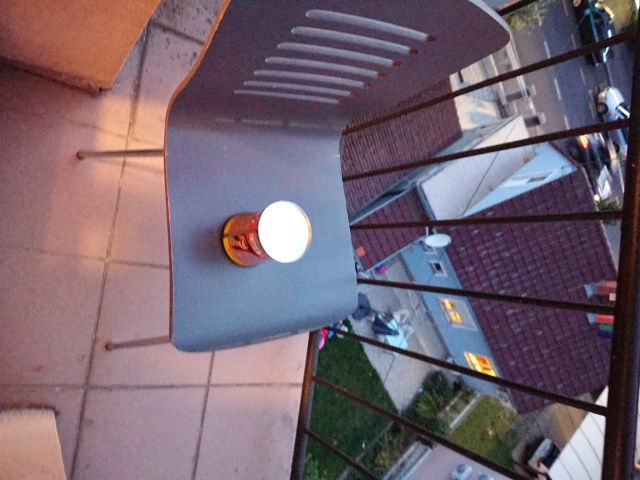Nescafe Classic 225g: (216, 197, 315, 272)
